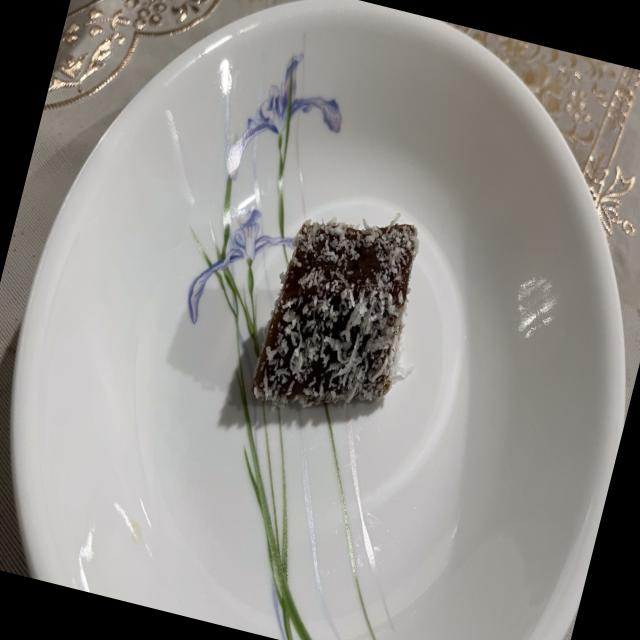kaswi: (252, 216, 418, 408)
